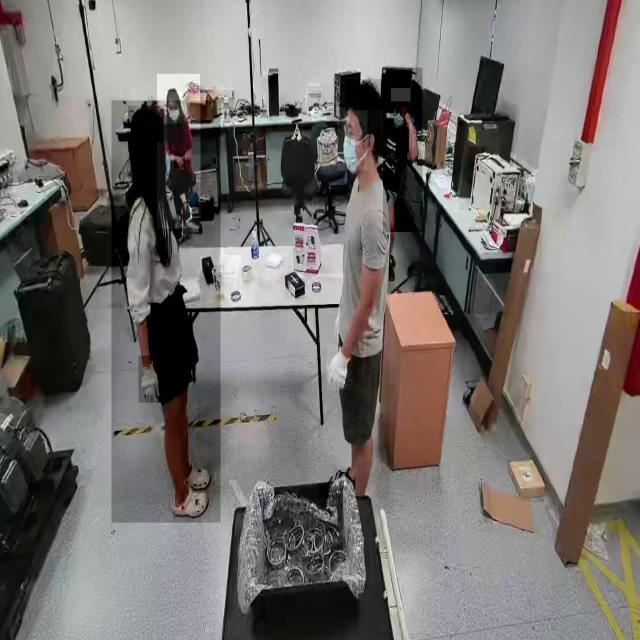face_mask: (337, 108, 367, 170), (166, 92, 182, 124), (390, 100, 406, 130)
hand_glove: (327, 344, 353, 391), (139, 356, 161, 404)
hand_noglove: (174, 153, 186, 169), (404, 110, 413, 124)
head_nohelmet: (128, 106, 164, 143), (345, 79, 385, 111), (391, 88, 411, 102), (166, 86, 179, 100)
person: (111, 100, 221, 524), (319, 83, 391, 500), (157, 74, 201, 228), (383, 67, 423, 233)
